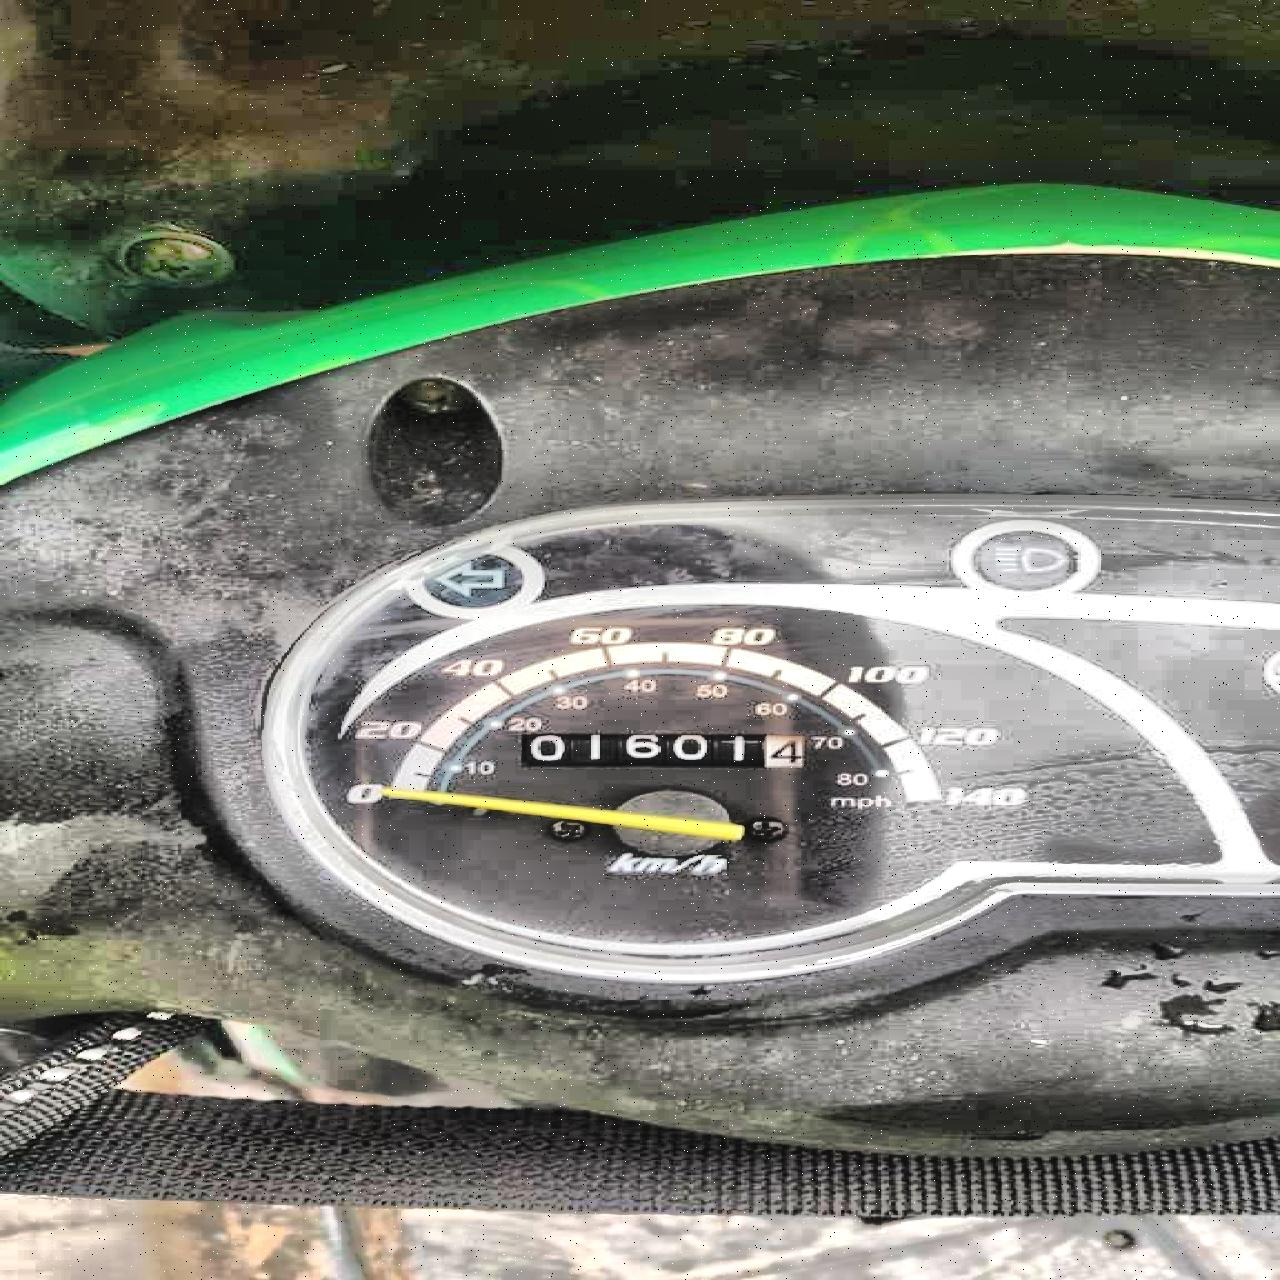0: (669, 735, 707, 763), (526, 735, 566, 761)
1: (727, 734, 751, 765), (583, 731, 605, 761)
4: (764, 736, 803, 764)
6: (620, 734, 665, 760)
odometer: (517, 731, 806, 769)
